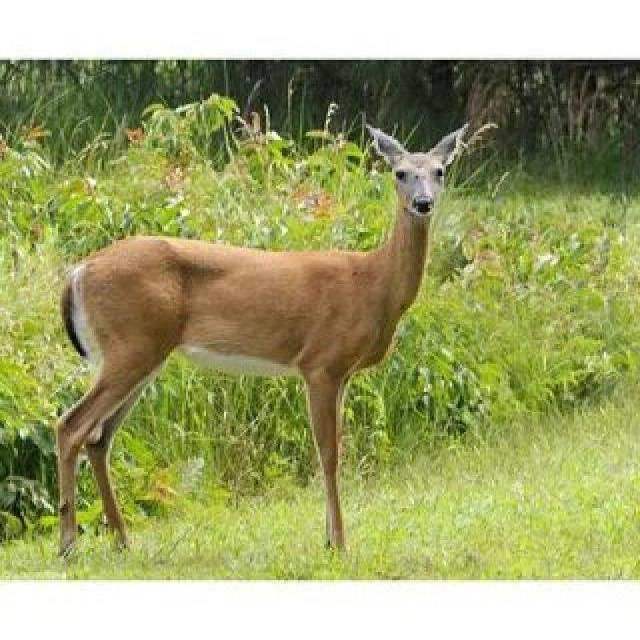deer: (61, 185, 477, 570)
